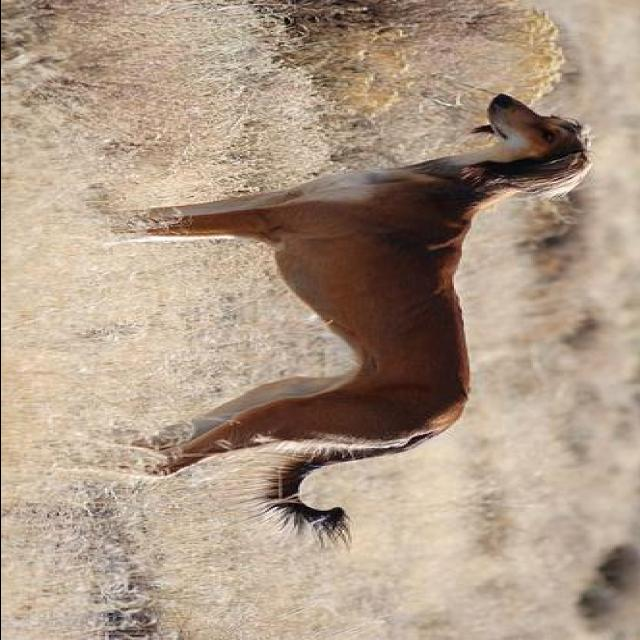saluki: (115, 94, 596, 552)
